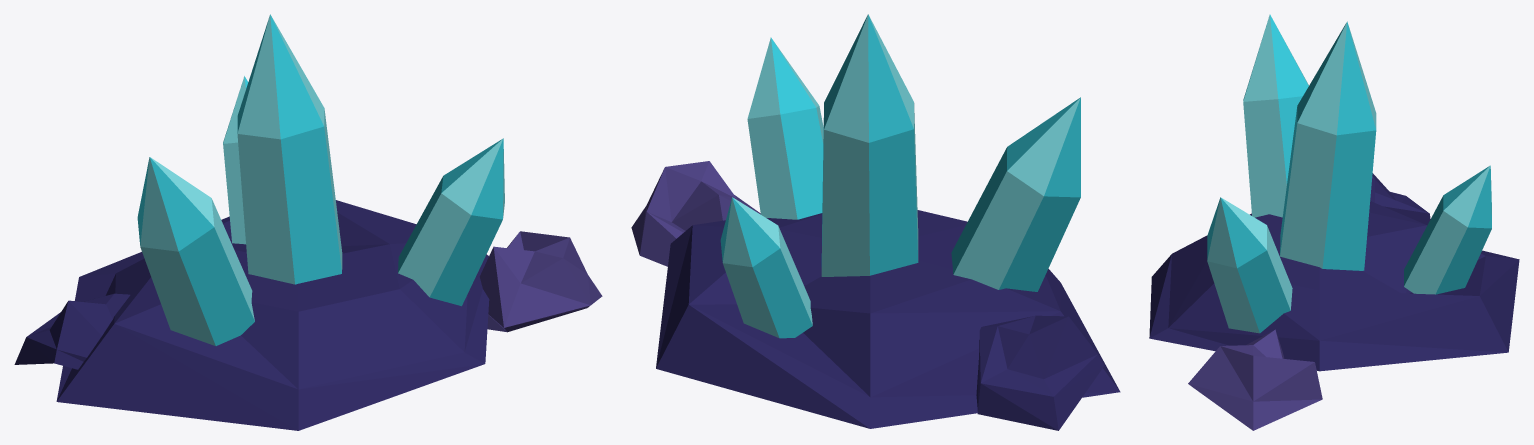
File: Mine_Crystal_Shards_Small.obj
3 renders of one model, left to right at view 1: azimuth 30°, elevation 25°; view 2: azimuth 150°, elevation 25°; view 3: azimuth 270°, elevation 25°, orthographic. The views are drawn at different scales.
Visible parts, largest first — view 1: Mine_Crystal_Shards_Small; view 2: Mine_Crystal_Shards_Small; view 3: Mine_Crystal_Shards_Small.
Part boxes in pixels (x1=…): Mine_Crystal_Shards_Small: x1=14, y1=14, x2=602, y2=430; Mine_Crystal_Shards_Small: x1=631, y1=14, x2=1120, y2=430; Mine_Crystal_Shards_Small: x1=1149, y1=14, x2=1519, y2=430.
Size of the model in its own units: 0.9685 by 0.5946 by 0.6687.
